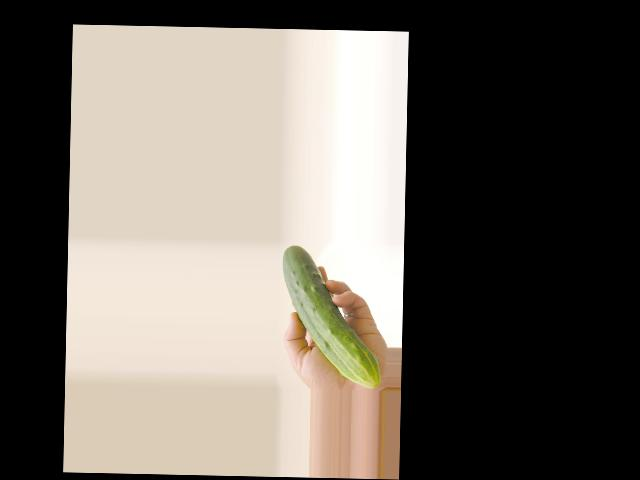cucumber: (280, 245, 383, 387)
